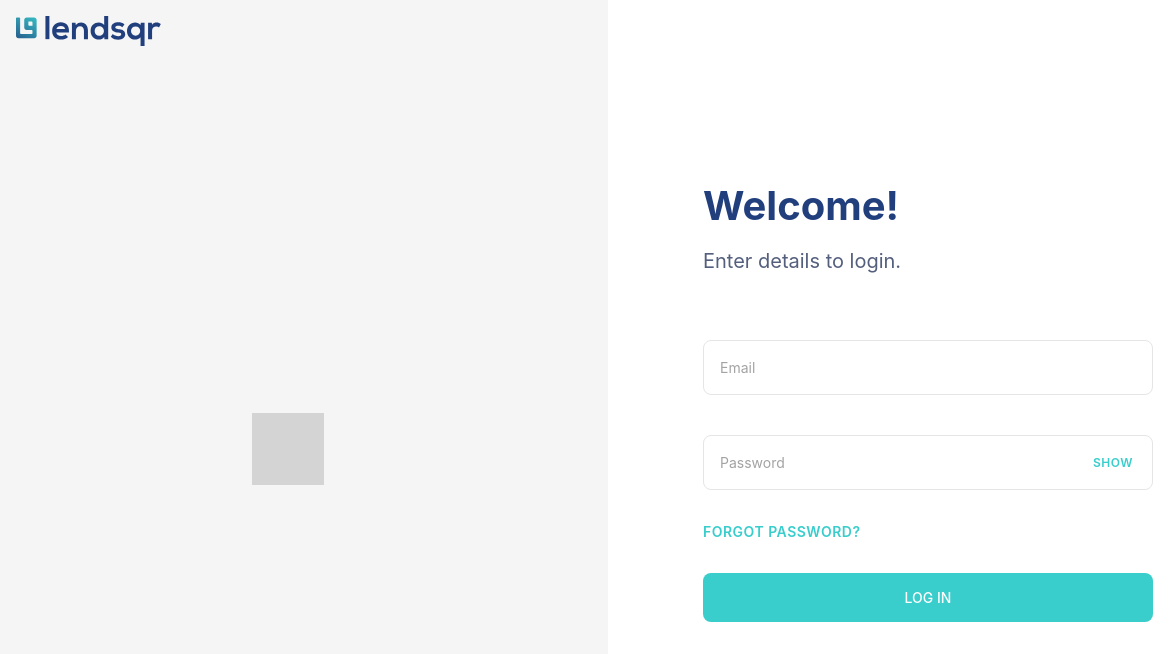
Test case: Login Page › should show error when password is empty
In the field with placeholder "Email": (928, 367) [703, 340, 1153, 395], type "test@example.com"
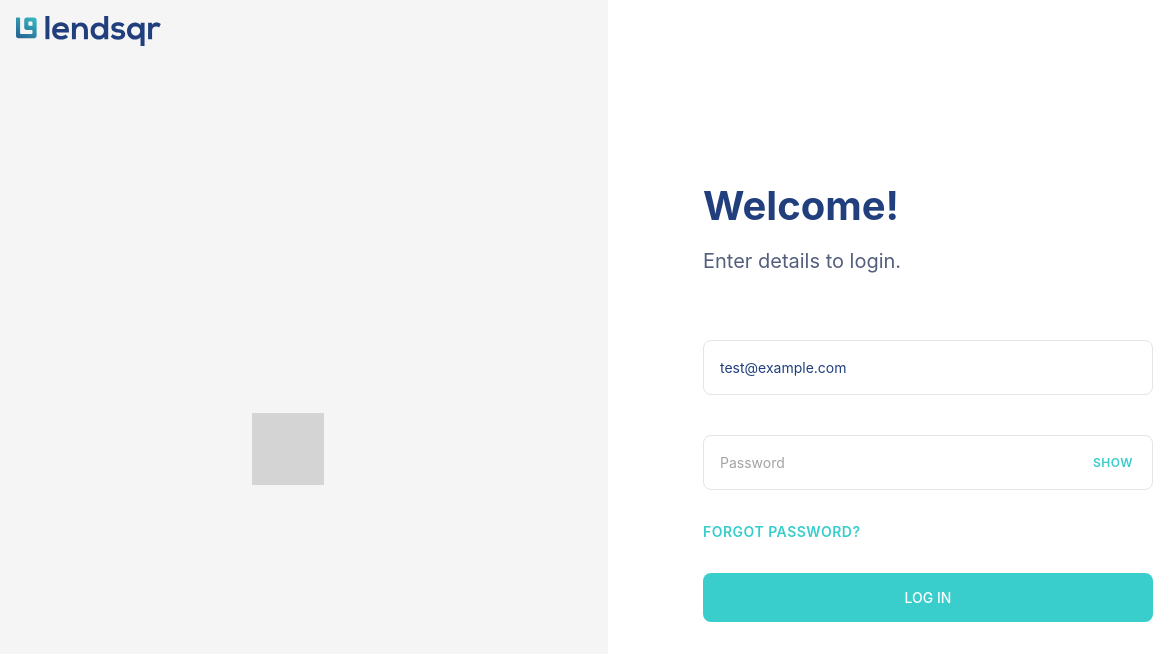
Click the button "LOG IN": (928, 598) [703, 573, 1153, 622]
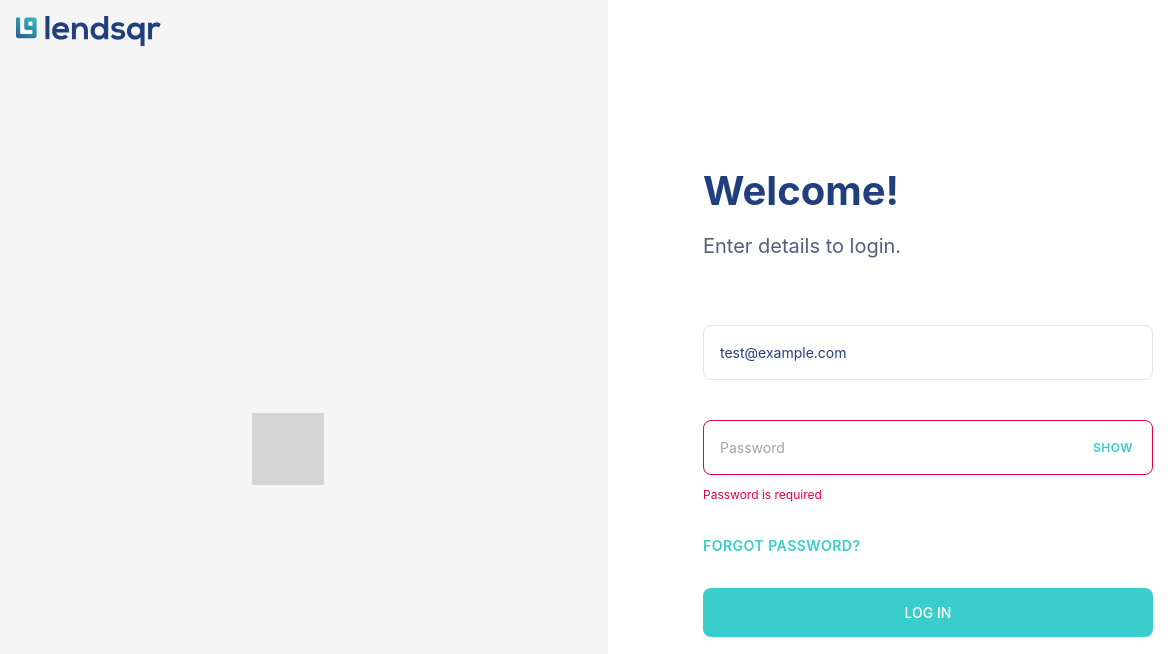
Expected: the text "Password is required" is shown, [703, 487, 822, 502]
